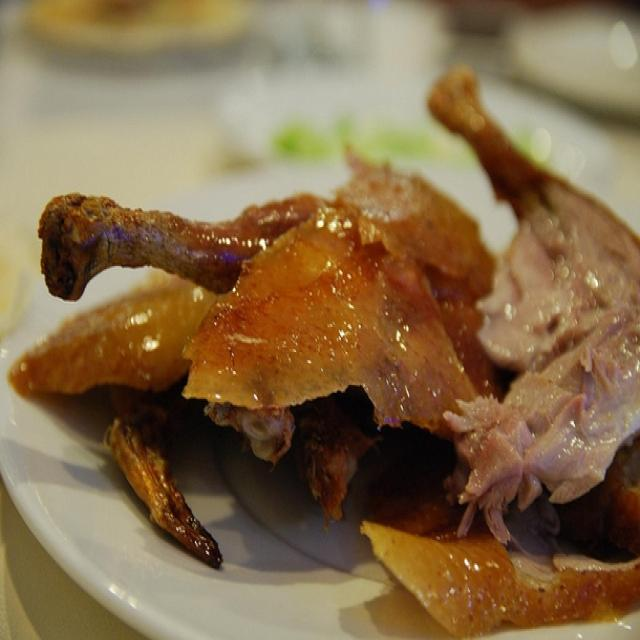烧串烤肉: (27, 47, 632, 610)
